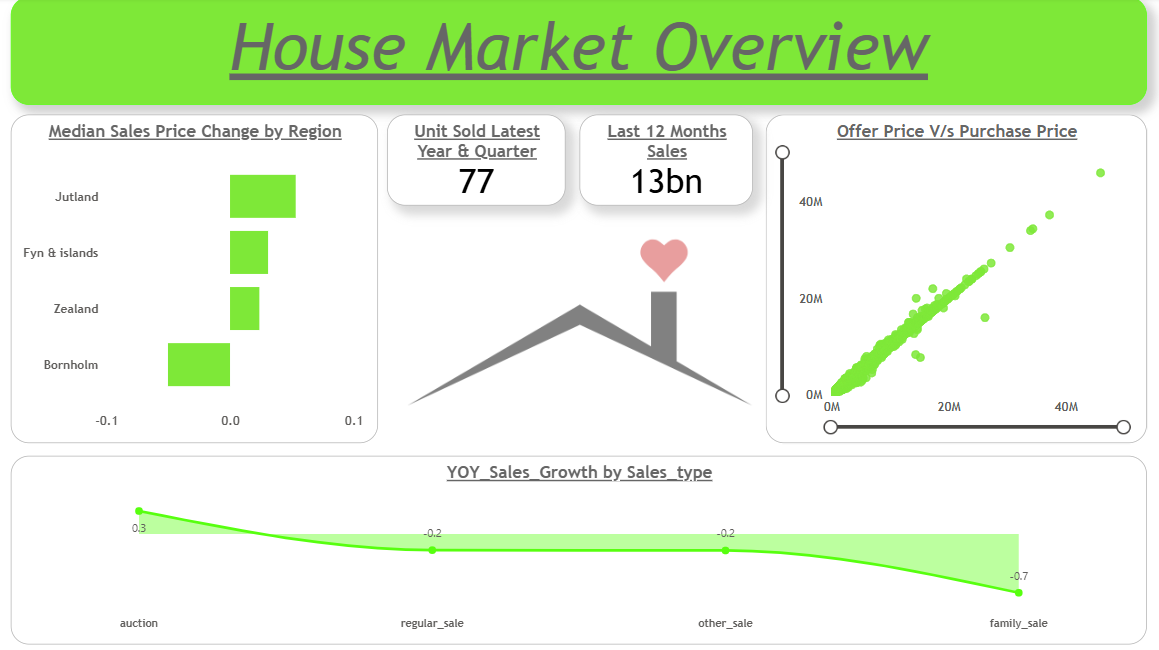

Layout of this report page (visuals, bound fields, positions):
{"tool":"powerbi","page":{"name":"Housing Market Overview","canvas":[1280,720],"ordinal":0},"visuals":[{"type":"textbox","box":[15.1,0,1247.3,118],"z":0},{"type":"lineChart","title":"YOY_Sales_Growth by Sales_type","fields":{"Y":["Housing.YOY_Sales_Growth"],"Category":["Housing.sales_type"]},"box":[15.1,503.6,1247.3,207.2],"z":1000},{"type":"scatterChart","title":"Offer Price V/s Purchase Price","fields":{"X":["Housing.Offer Price"],"Y":["Housing.purchase_price"]},"box":[843.9,129,418.5,360.9],"z":2000},{"type":"barChart","title":"Median Sales Price Change by Region","fields":{"Category":["Housing.region"],"Y":["Housing.Median Sales Price Change"]},"box":[15.1,129,403.4,360.9],"z":3000},{"type":"card","title":"Unit Sold Latest Year & Quarter","fields":{"Values":["Sum(Housing.Units sold in Latest year & Quarter)"]},"box":[428.1,129,196.2,100.2],"z":4000},{"type":"card","title":"Last 12 Months Sales","fields":{"Values":["Housing.Last 12 Months Sales"]},"box":[639.5,129,190.7,100.2],"z":5000}]}

Visuals, with their boxes in screenshot pixels (x1, y1, x2, y2), scaled from the page's 1280x720 canvas onto the 1159x650 screenshot:
textbox: (14, 0, 1143, 107)
"YOY_Sales_Growth by Sales_type" lineChart: (14, 455, 1143, 642)
"Offer Price V/s Purchase Price" scatterChart: (764, 116, 1143, 442)
"Median Sales Price Change by Region" barChart: (14, 116, 379, 442)
"Unit Sold Latest Year & Quarter" card: (388, 116, 565, 207)
"Last 12 Months Sales" card: (579, 116, 752, 207)
